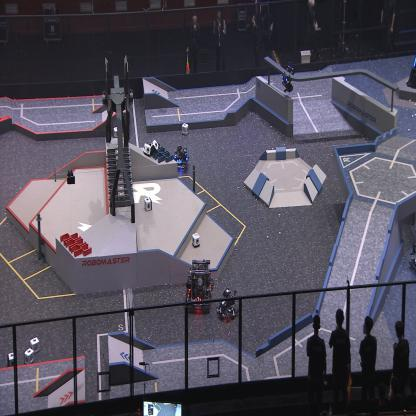car: (186, 258, 214, 316), (216, 285, 238, 322), (172, 142, 190, 173), (409, 224, 416, 274)
